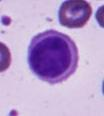L: (26, 28, 79, 84)
